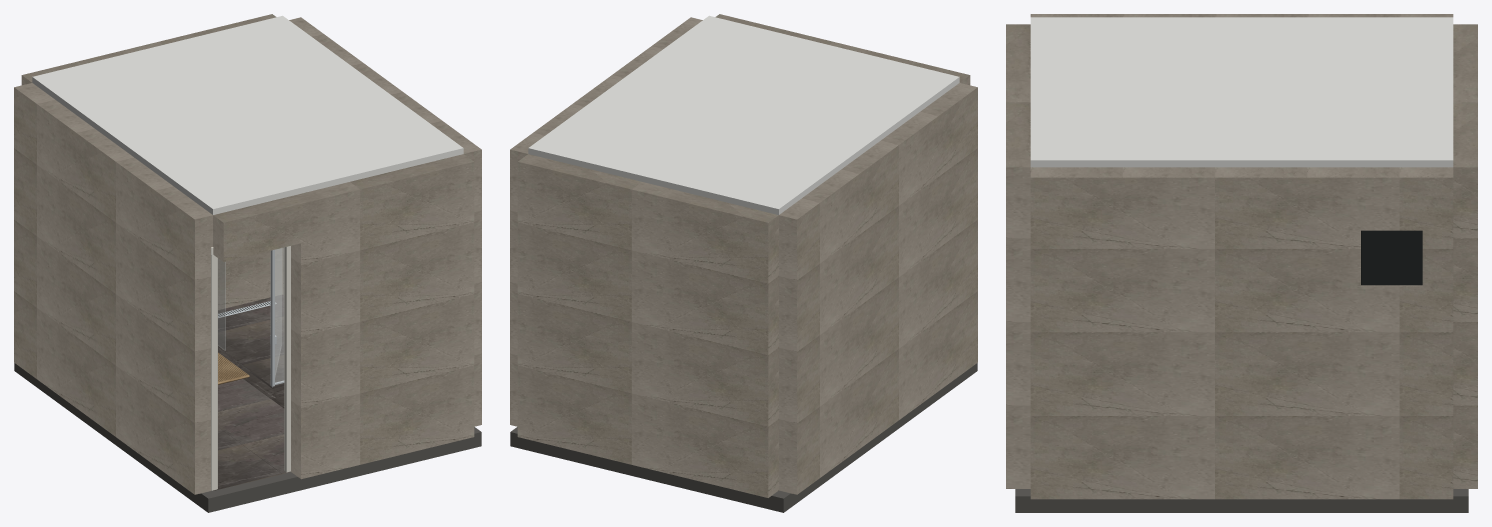
File: 24_Alternatif_6_3_4.glb
3 renders of one model, left to right at view 1: azimuth 30°, elevation 25°; view 2: azimuth 150°, elevation 25°; view 3: azimuth 270°, elevation 25°, orthographic. The views are drawn at different scales.
Visible parts, largest first — view 1: Sol duvar, Ön duvar | sunum için gizli, Tavan | plan görünümünde gizlenir, Zemin taşıyıcı, Sağ duvar / gerçek pencere boşluğu, Arka duvar / gerçek niş boşlukları, Duş eğimli zemin sınırı 90x140, Zemin seramik / derz 2mm.006, Zemin seramik / derz 2mm, Kapı pervazı, Kapı pervazı.001, Kabin ön sabit cam (+6 smaller); view 2: Arka duvar / gerçek niş boşlukları, Sol duvar, Tavan | plan görünümünde gizlenir, Zemin taşıyıcı, Sağ duvar / gerçek pencere boşluğu, Ön duvar | sunum için gizli; view 3: Sağ duvar / gerçek pencere boşluğu, Tavan | plan görünümünde gizlenir, Arka duvar / gerçek niş boşlukları, Ön duvar | sunum için gizli, Zemin taşıyıcı, Havalandırma karanlık iç boşluğu, Sol duvar.
Part boxes in pixels (<box>): Sol duvar: <box>14,83,212,494</box>; Ön duvar | sunum için gizli: <box>213,154,474,479</box>; Tavan | plan görünümünde gizlenir: <box>32,15,463,214</box>; Zemin taşıyıcı: <box>14,363,481,512</box>; Sağ duvar / gerçek pencere boşluğu: <box>283,17,481,426</box>; Arka duvar / gerçek niş boşlukları: <box>21,14,282,309</box>; Duş eğimli zemin sınırı 90x140: <box>218,294,284,388</box>; Zemin seramik / derz 2mm.006: <box>218,399,284,444</box>; Zemin seramik / derz 2mm: <box>213,444,281,490</box>; Kapı pervazı: <box>211,253,217,490</box>; Kapı pervazı.001: <box>284,246,290,472</box>; Kabin ön sabit cam: <box>275,248,283,382</box>; Arka duvar / gerçek niş boşlukları: <box>517,154,778,497</box>; Sol duvar: <box>779,83,977,494</box>; Tavan | plan görünümünde gizlenir: <box>528,15,959,214</box>; Zemin taşıyıcı: <box>510,363,977,512</box>; Sağ duvar / gerçek pencere boşluğu: <box>510,17,702,426</box>; Ön duvar | sunum için gizli: <box>715,14,970,85</box>; Sağ duvar / gerçek pencere boşluğu: <box>1030,167,1453,499</box>; Tavan | plan görünümünde gizlenir: <box>1030,17,1453,167</box>; Arka duvar / gerçek niş boşlukları: <box>1453,24,1477,488</box>; Ön duvar | sunum için gizli: <box>1006,24,1030,488</box>; Zemin taşıyıcı: <box>1015,489,1468,512</box>; Havalandırma karanlık iç boşluğu: <box>1361,230,1422,285</box>; Sol duvar: <box>1030,14,1453,17</box>.
Bounding box in the file's own units: 2.52 × 2.49 × 3.07.
17 materials, 6 textured.
